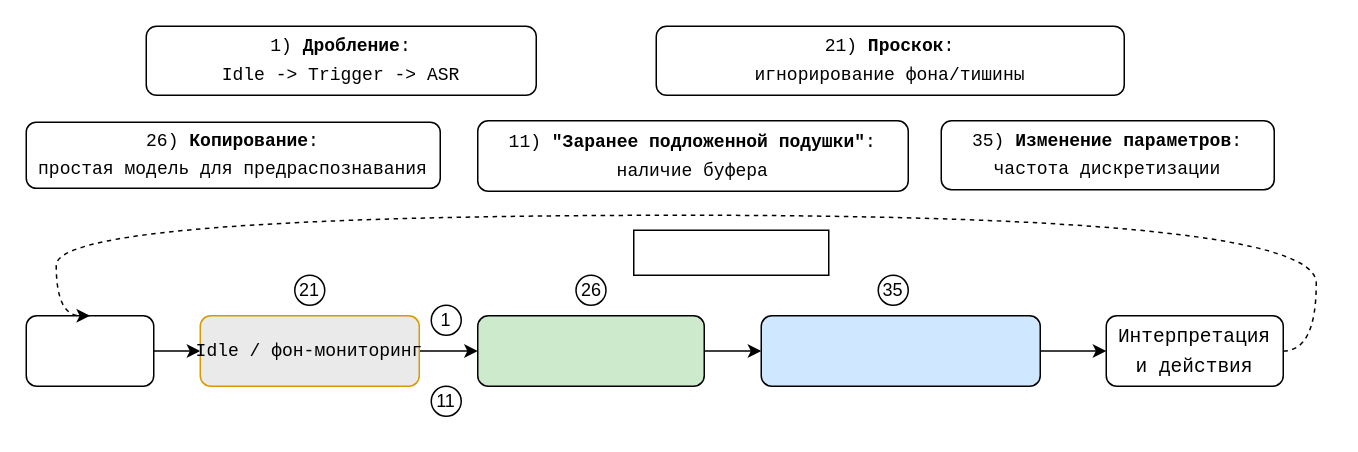
This 1358x452 diagram has some shape labels left out. Here are the shapes that lost their labels. From the top down, the centre of each, then its label:
At pixel 730 252: "Pipline".
At pixel 89 350: "Аудиопоток".
At pixel 590 350: "Предраспознавание (простая модель)".
At pixel 900 350: "Полное распознавание (ASR)".
